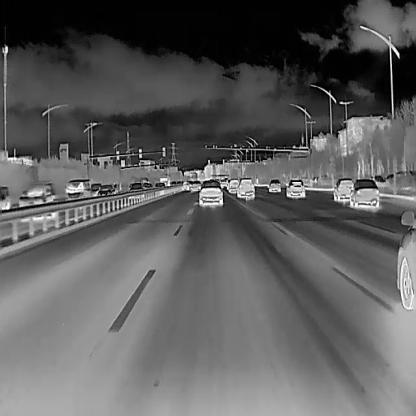bus: (63, 176, 93, 208)
car: (16, 180, 55, 212), (347, 176, 379, 208), (198, 180, 224, 207), (332, 176, 354, 202), (235, 176, 256, 198), (284, 177, 306, 198), (96, 183, 116, 198), (128, 181, 144, 194), (267, 177, 281, 191), (228, 177, 239, 193), (89, 181, 101, 195), (189, 179, 201, 191), (142, 182, 152, 193), (154, 181, 164, 192), (180, 180, 188, 190), (169, 178, 176, 188)
truck: (159, 174, 170, 188)
